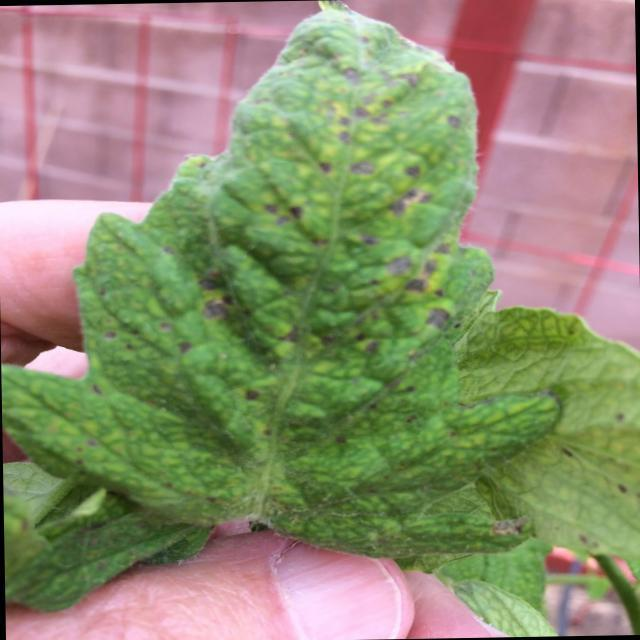Bacterial Spot: (147, 54, 483, 390)
